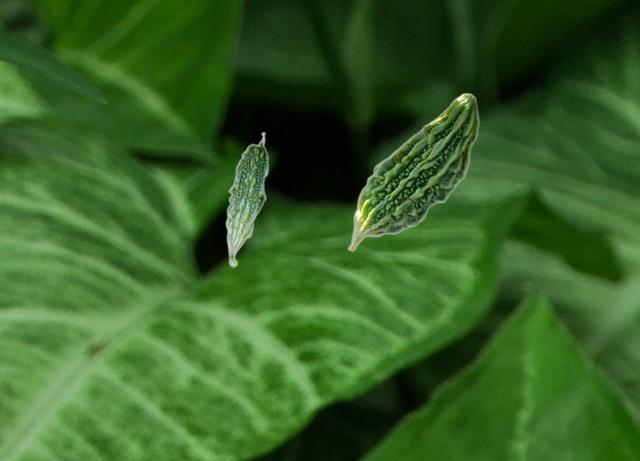ampalaya: (347, 90, 481, 254), (223, 129, 269, 268)
